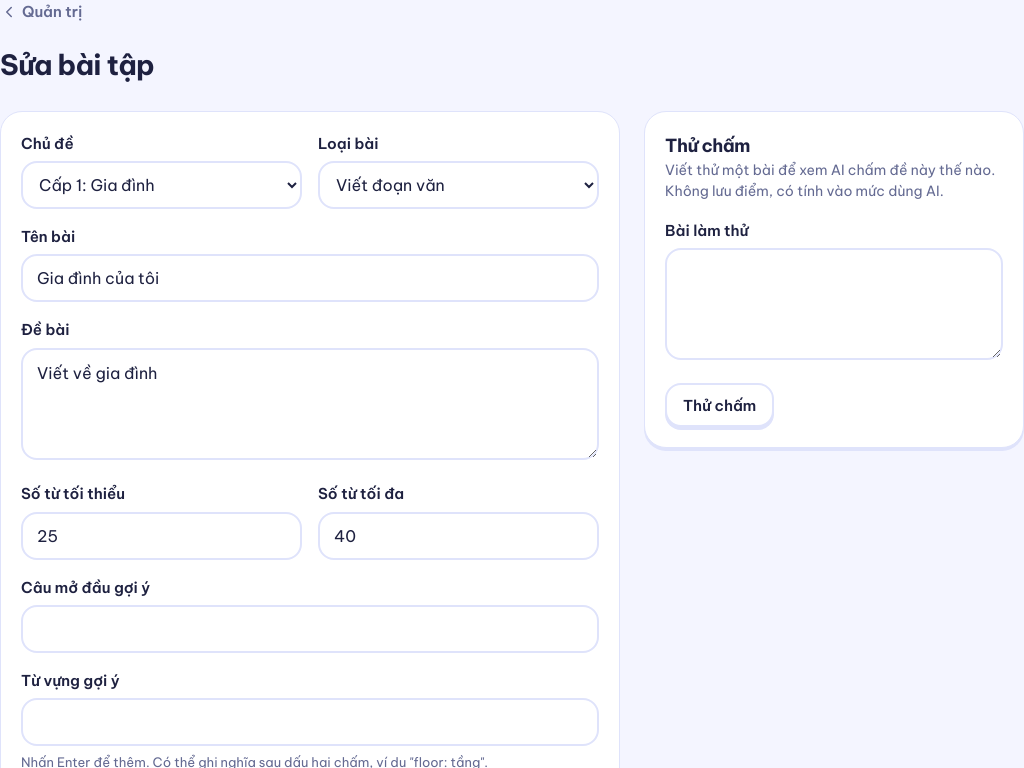
blocks save when min_words > max_words
The image size is (1024, 768).
Replace the text in the field labelled "Số từ tối thiểu" with "50" at (162, 536), box [21,512,302,560]
(page scrolled)
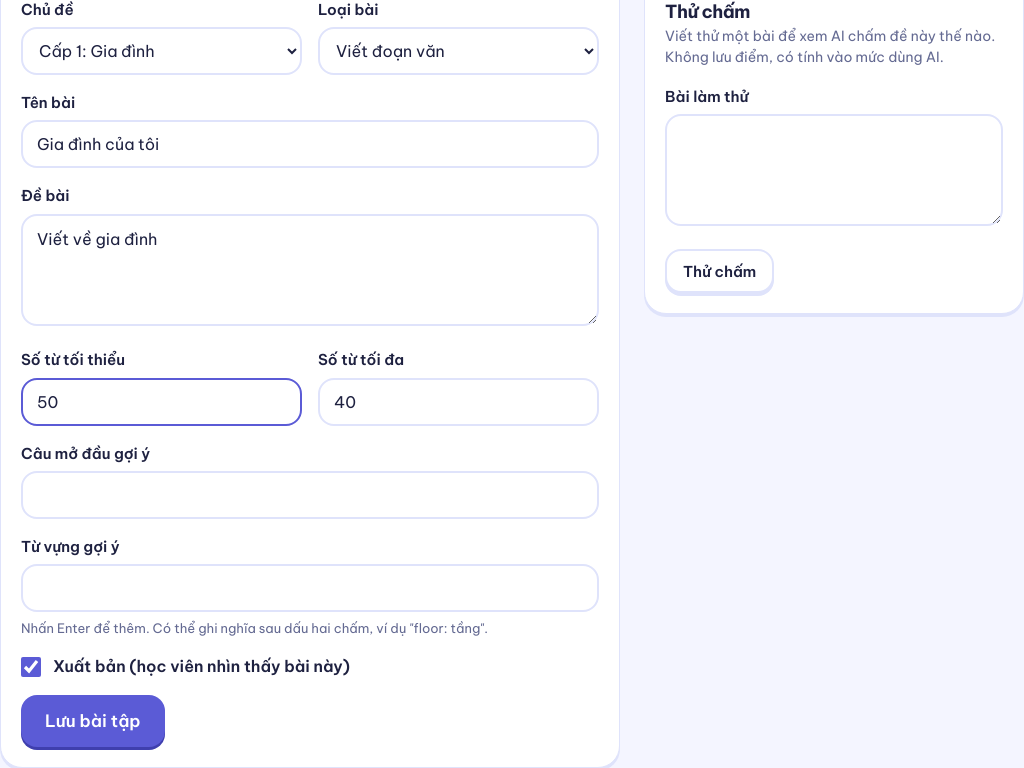
Click the button "Lưu bài tập" at (93, 721), box [21,695,165,747]
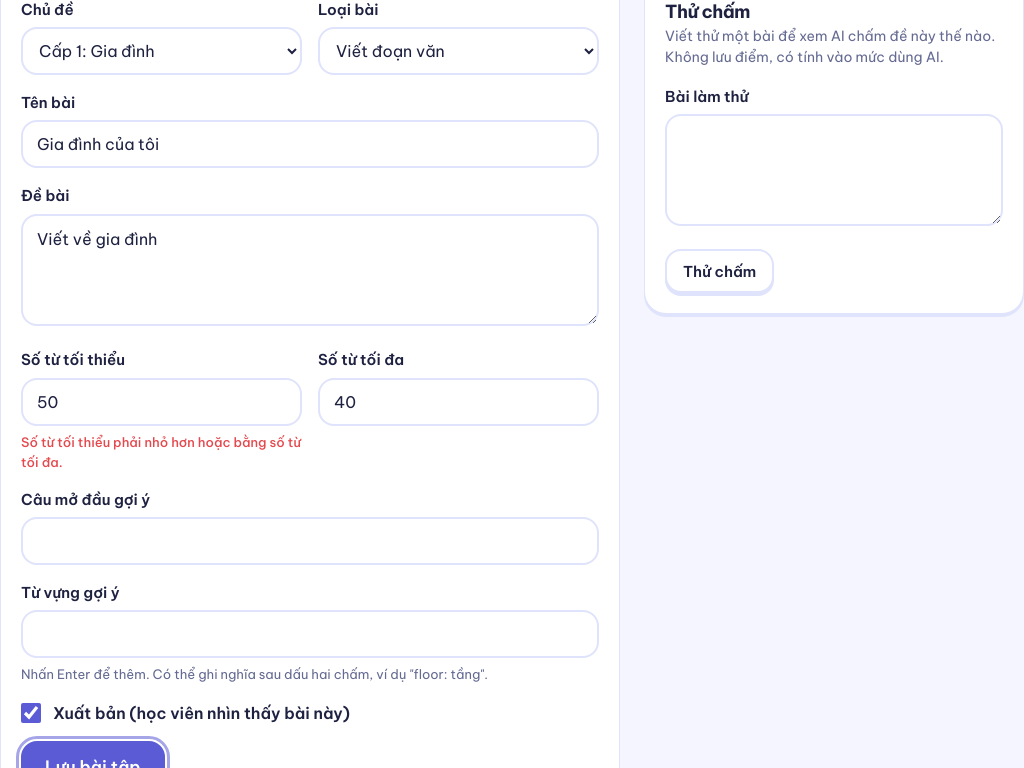
Check: the text "Số từ tối thiểu phải nhỏ hơn hoặc bằng số từ tối đa." is shown, box [21,432,302,472]
